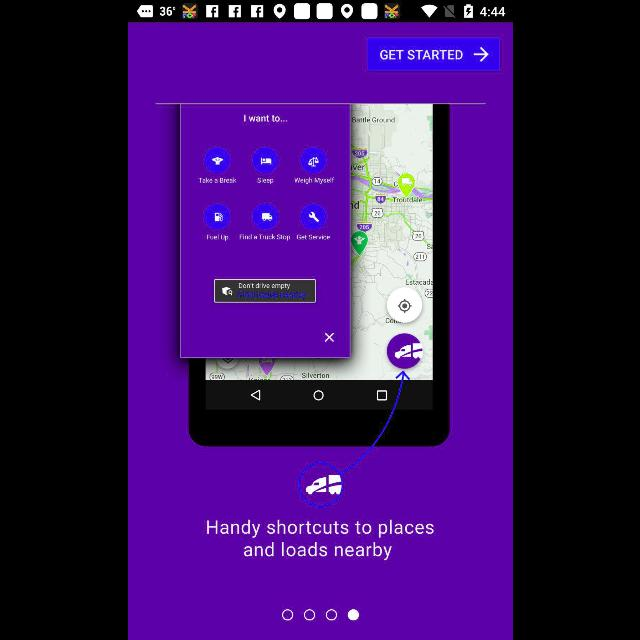image: (179, 104, 449, 508)
pageindicator: (281, 609, 359, 621)
text: (206, 520, 434, 560)
textbutton: (366, 38, 499, 72)
uppertaskbar: (128, 1, 512, 23)
